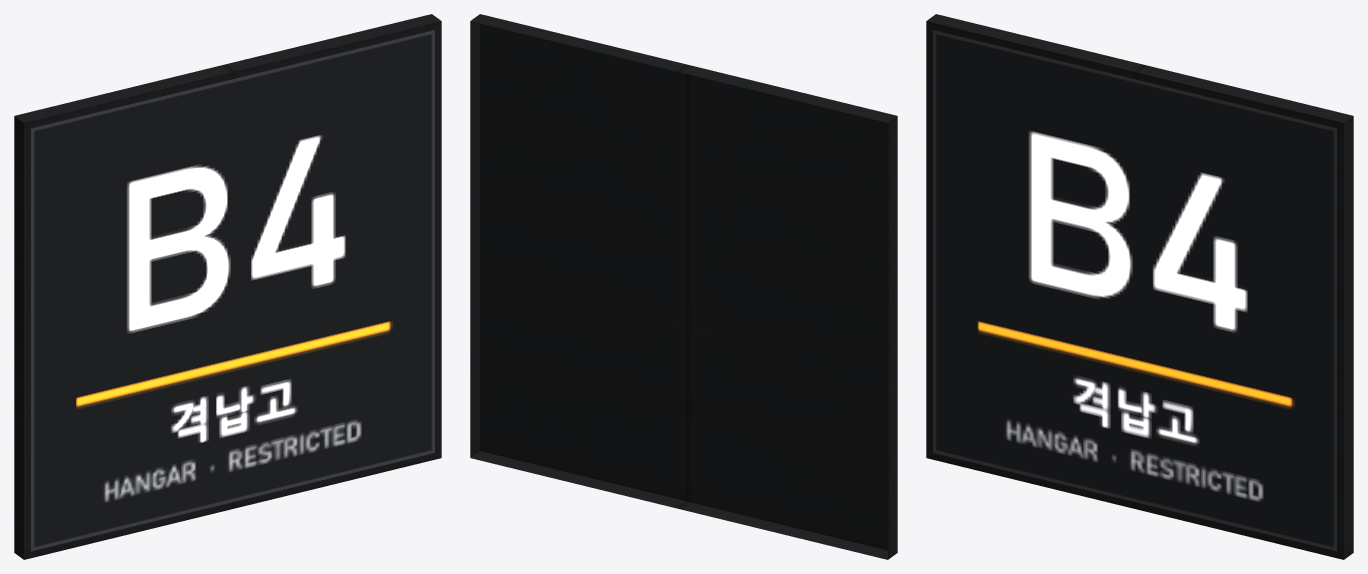
Rendered from SM_LFD_SignFloor_B4.fbx.
The picture shows the model from 3 angles, left to right: view 1: azimuth 30°, elevation 25°; view 2: azimuth 150°, elevation 25°; view 3: azimuth 330°, elevation 25°; orthographic projection.
Parts seen in each view (by area): view 1: SM_LFD_SignFloor_B4; view 2: SM_LFD_SignFloor_B4; view 3: SM_LFD_SignFloor_B4.
Boxes of the visible parts, <box> form: SM_LFD_SignFloor_B4: <box>14,14,441,559</box>; SM_LFD_SignFloor_B4: <box>470,14,897,559</box>; SM_LFD_SignFloor_B4: <box>926,14,1353,559</box>.
Bounding box in the file's own units: 1.24 × 1.24 × 0.051.
